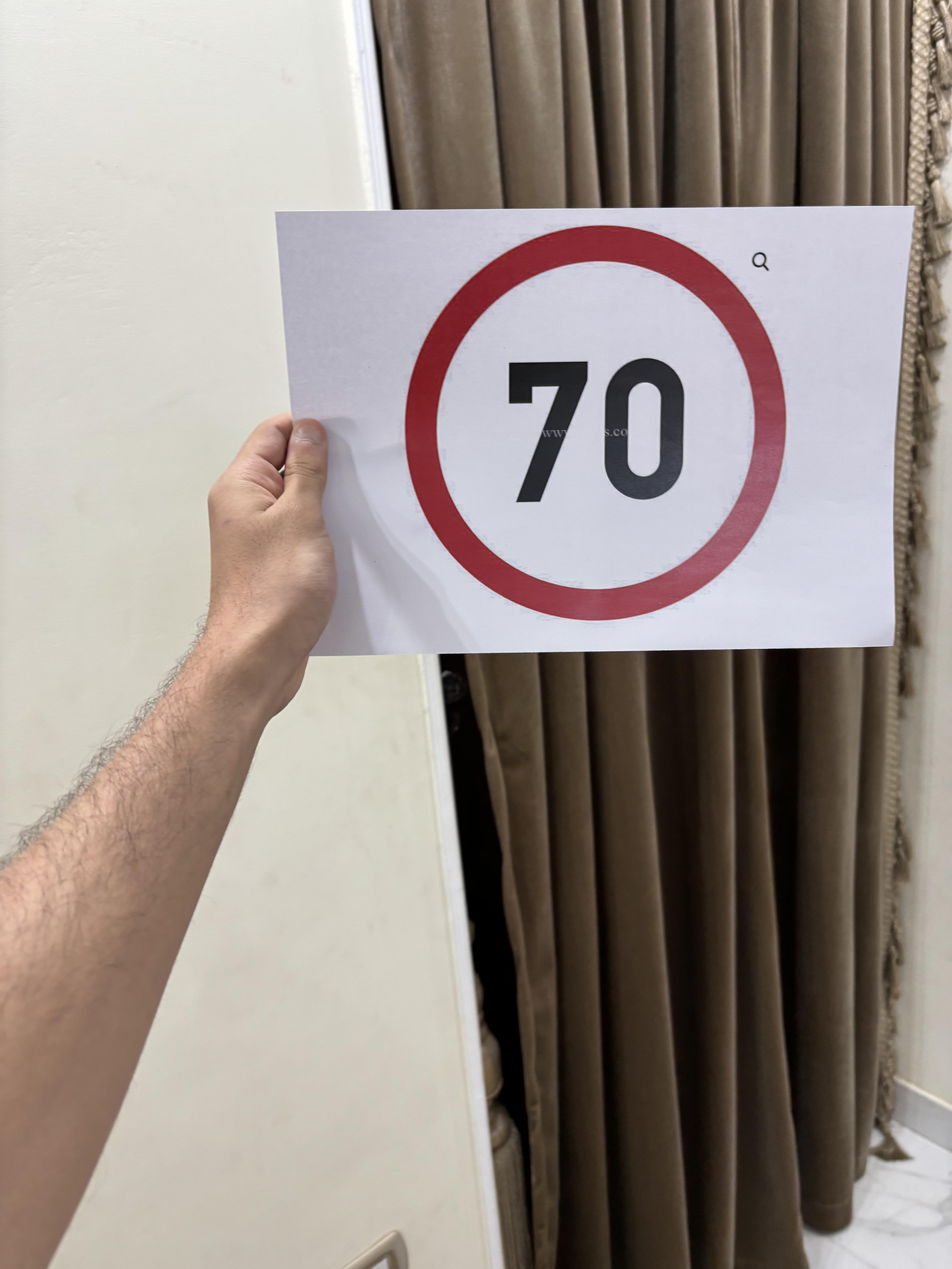70-Speed: (401, 223, 794, 625)
